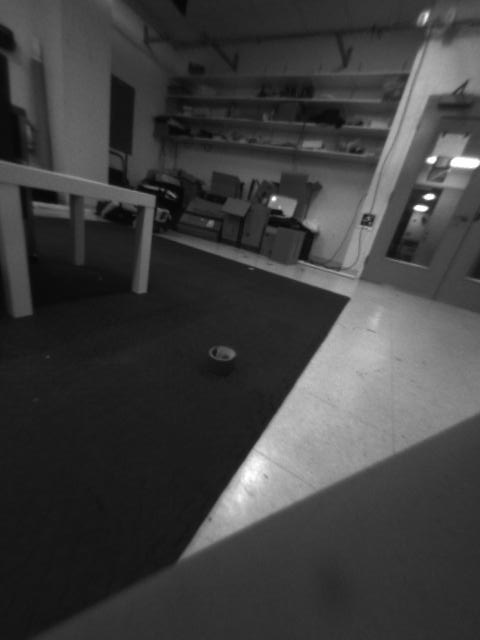dogtoy: (191, 335, 249, 374)
